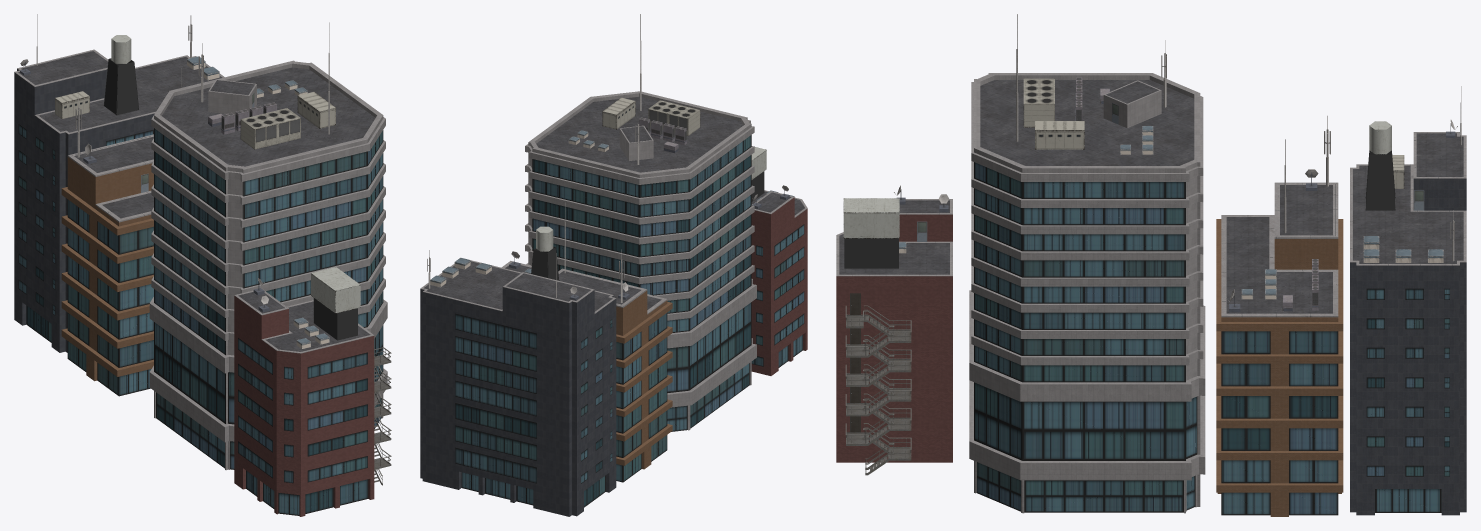
The model's file is buildSetK.FBX.
3 views of the same model, side by side, from view 1: azimuth 30°, elevation 25°; view 2: azimuth 150°, elevation 25°; view 3: azimuth 270°, elevation 25° (orthographic). The views are drawn at different scales.
Visible parts, largest first — view 1: buildSetK; view 2: buildSetK; view 3: buildSetK.
Boxes of the visible parts, x1,y1,x2,y2 form: buildSetK: (14, 14, 391, 516); buildSetK: (420, 14, 807, 516); buildSetK: (836, 14, 1466, 516).
Size of what is drawn, in the model's own units: 916 by 2320 by 1901.
